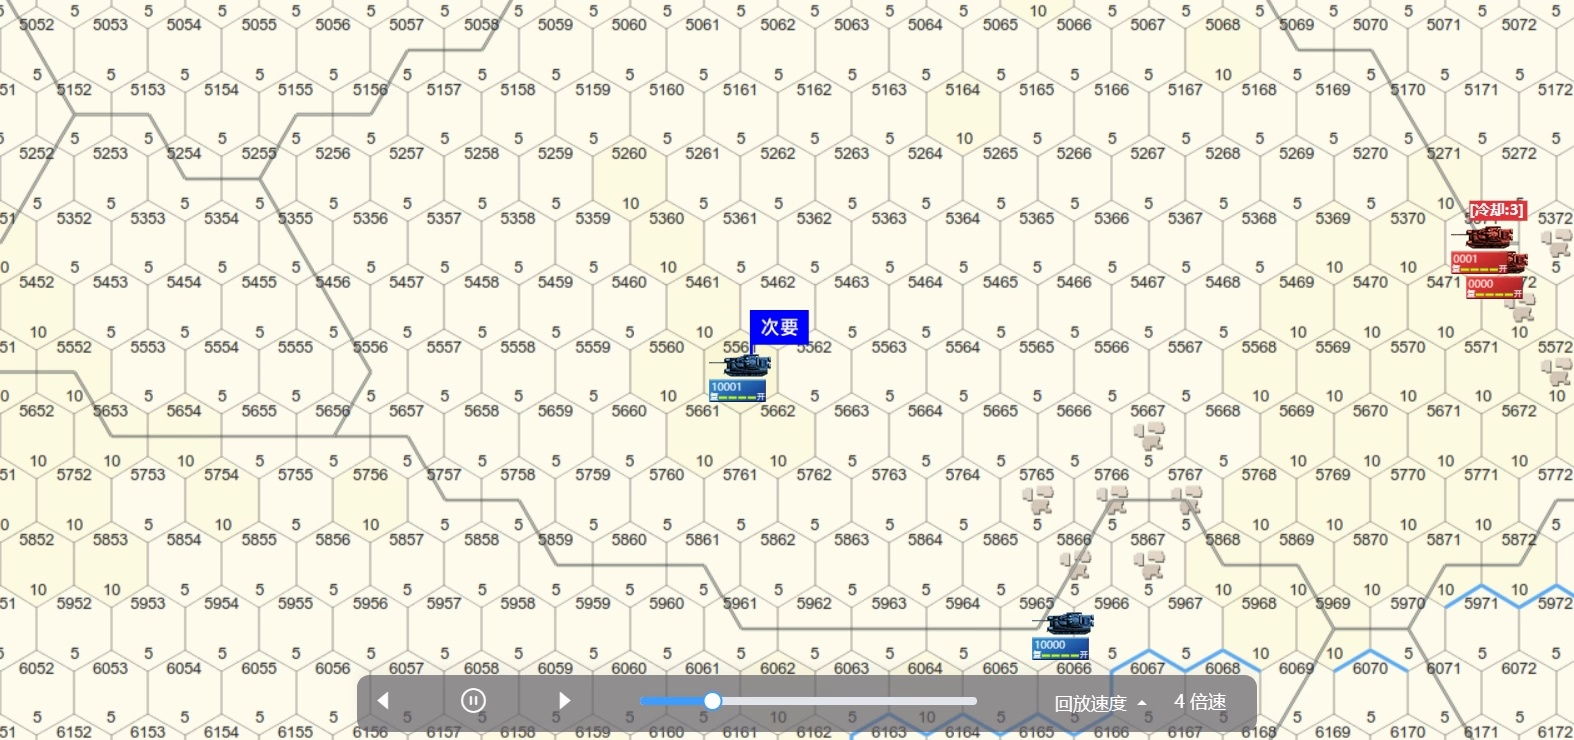blue_tank: (712, 354, 770, 405), (1031, 613, 1095, 653)
red_tank: (1457, 230, 1527, 294)
